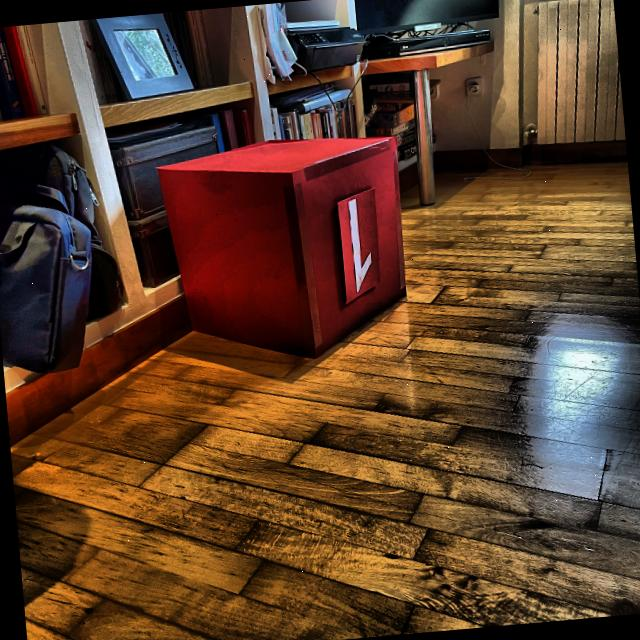one: (344, 196, 376, 294)
red box: (152, 128, 412, 372)
